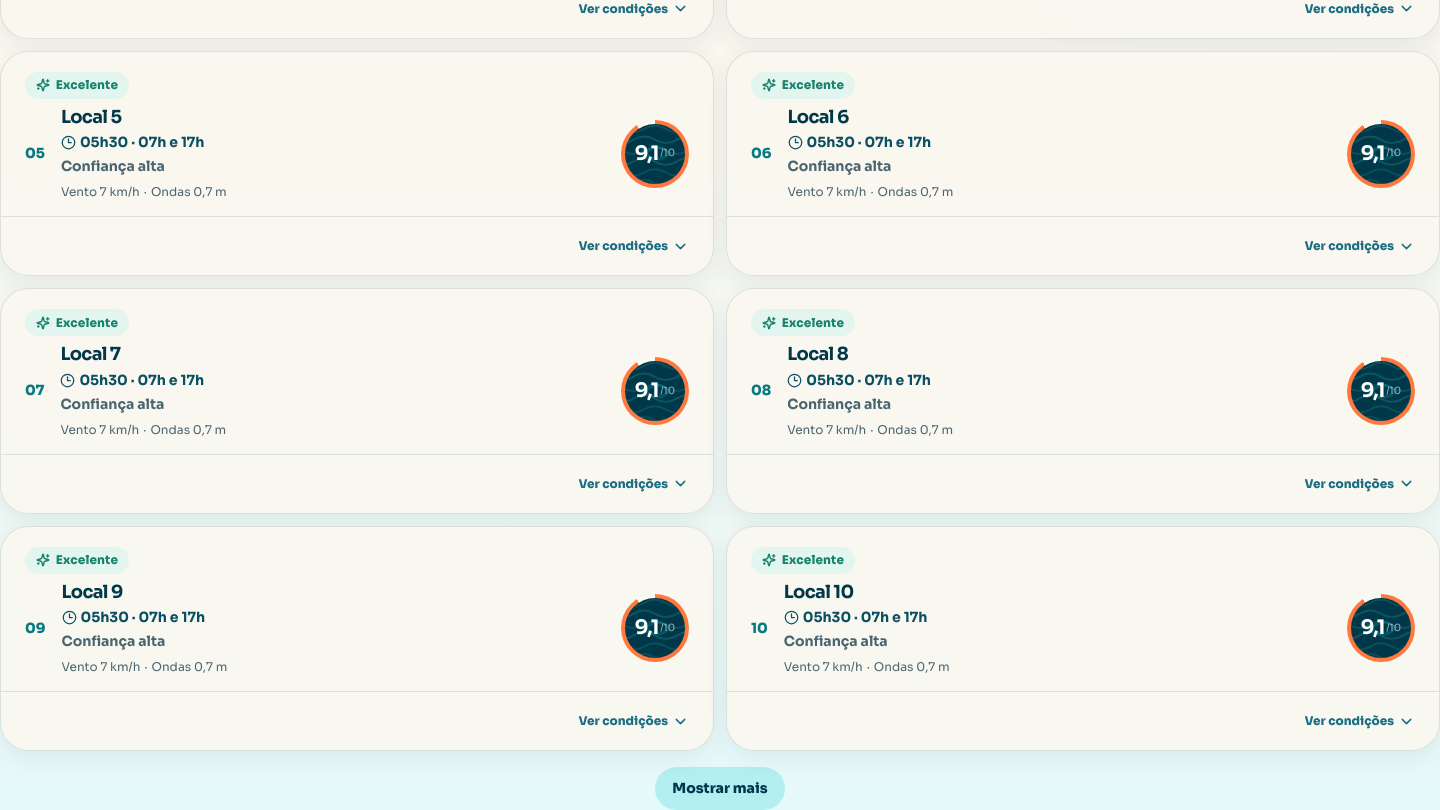
Test: RankingList › mostra 10 locais e carrega o restante de 10 em 10
The width and height of the screenshot is (1440, 810).
(page scrolled)
What coordinates should you click on to do the following:
click the button "Mostrar mais"
I would click on:
 (720, 788)
Its box is [655,767,785,809].
(page scrolled)
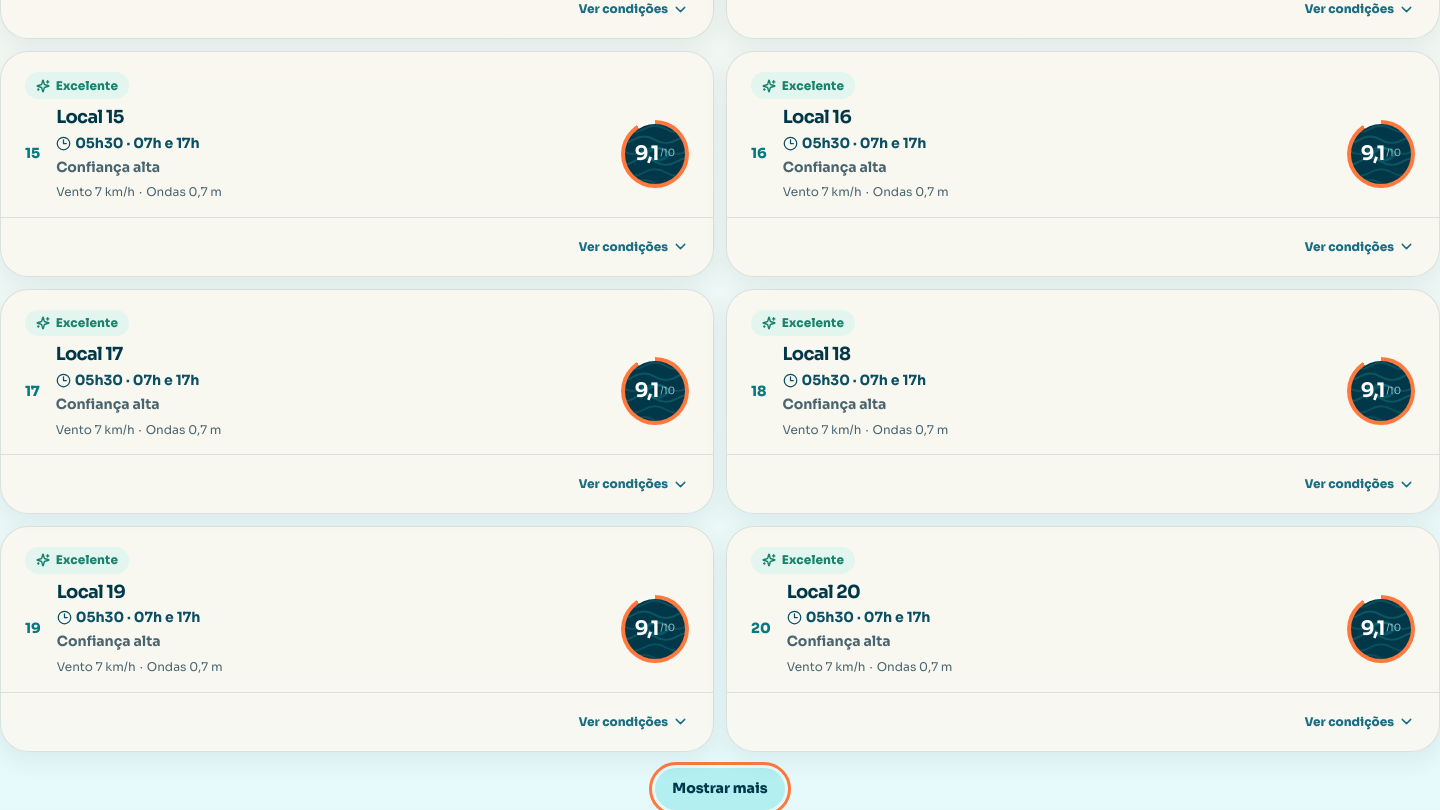
Check: the heading "Local 21" is not shown
What coordinates should you click on to do the following:
click the button "Mostrar mais"
I would click on:
 (720, 789)
Its box is [655,768,785,809].
(page scrolled)
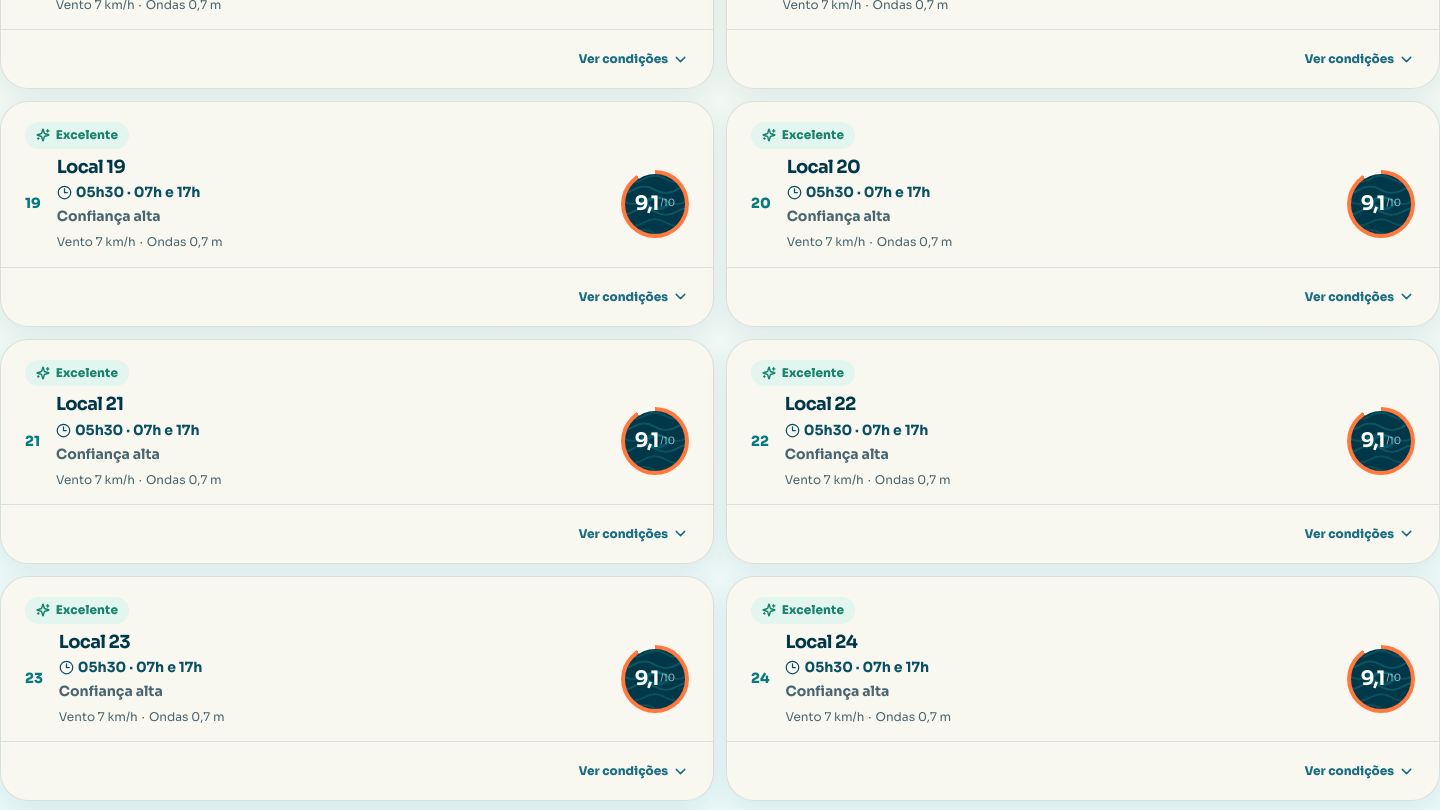
Check: the heading "Local 21" is shown, box [56,393,123,415]
Check: the button "Mostrar mais" is gone
